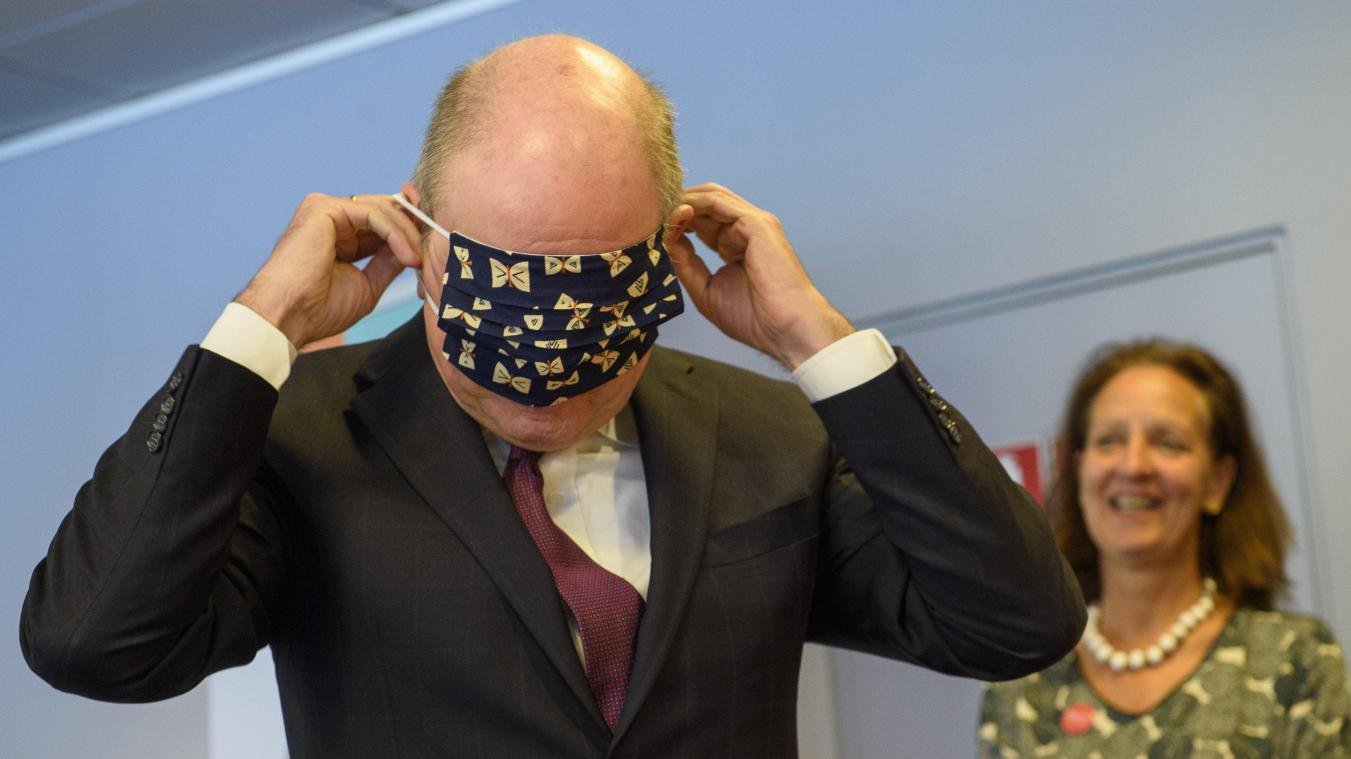with_incorrect_mask: (426, 151, 653, 457)
without_mask: (1089, 387, 1200, 559)
